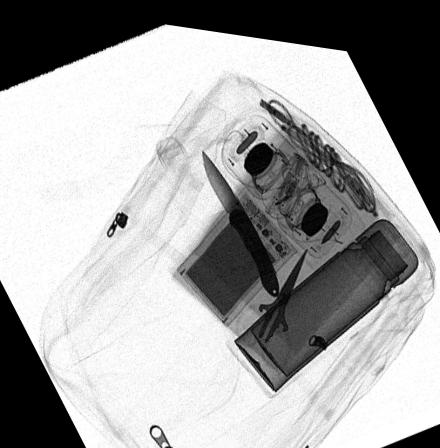Knife: (199, 140, 279, 287)
Powerbank: (176, 184, 297, 317)
Scissors: (233, 236, 307, 364)
